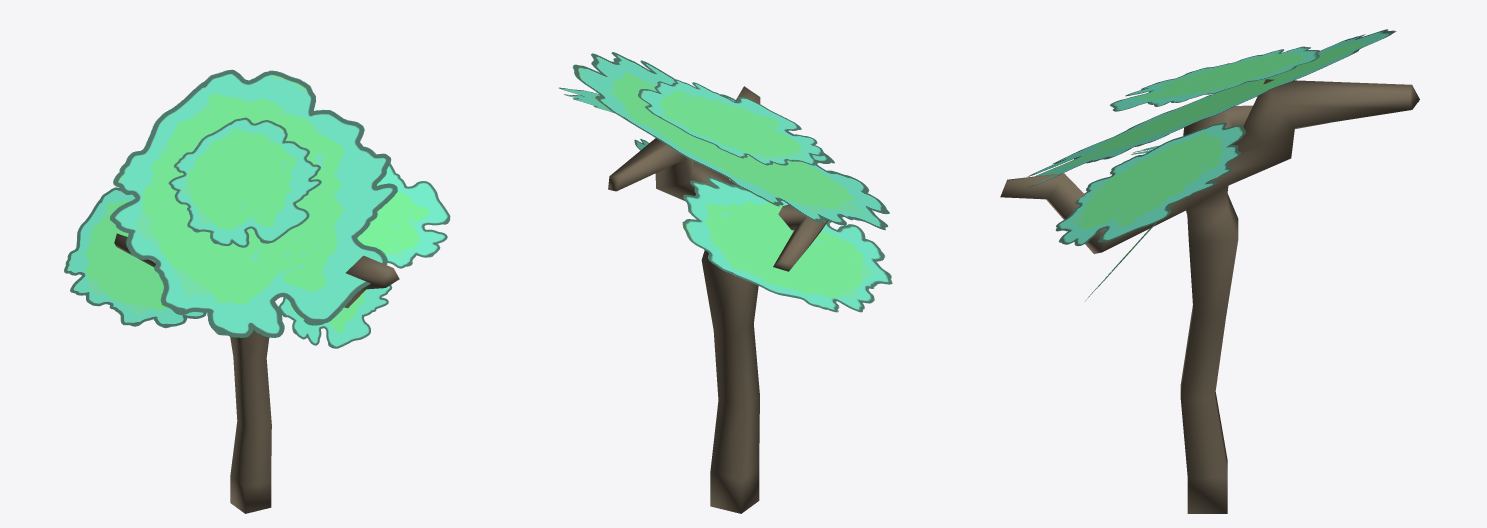
File: ArbolTextura1.fbx
The picture shows the model from 3 angles, left to right: view 1: azimuth 30°, elevation 25°; view 2: azimuth 150°, elevation 25°; view 3: azimuth 270°, elevation 25°; orthographic projection. The views are drawn at different scales.
Visible parts, largest first — view 1: ArbolTextura; view 2: ArbolTextura; view 3: ArbolTextura.
Part boxes in pixels (x1,y1,x2,y2): ArbolTextura: (64,69,450,513); ArbolTextura: (559,52,892,513); ArbolTextura: (1000,29,1419,513).
Bounding box in the file's own units: 2641 × 2793 × 2369.
Materials: 1 (1 with a texture image).
